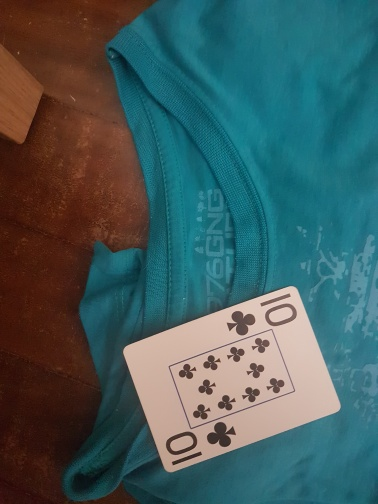ten: (124, 284, 341, 473)
